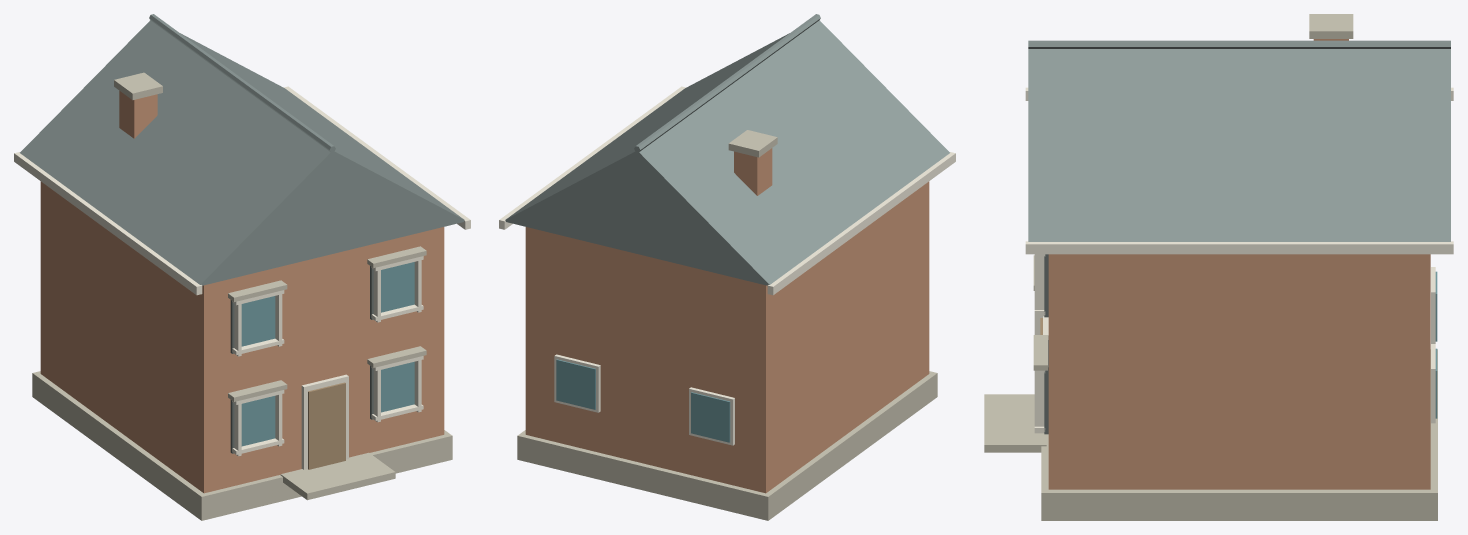
3 renders of one model, left to right at view 1: azimuth 30°, elevation 25°; view 2: azimuth 150°, elevation 25°; view 3: azimuth 270°, elevation 25°, orthographic. The views are drawn at different scales.
Bounding box in the file's own units: 7.76 × 9.41 × 9.82.
